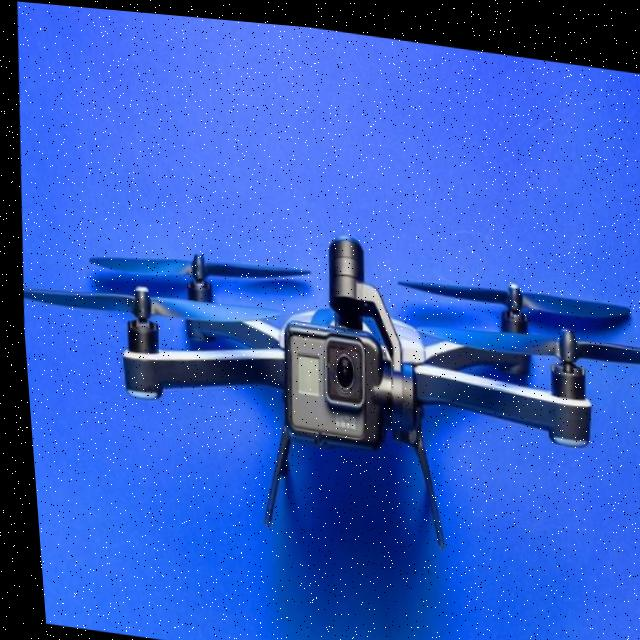drones: (7, 126, 640, 640)
